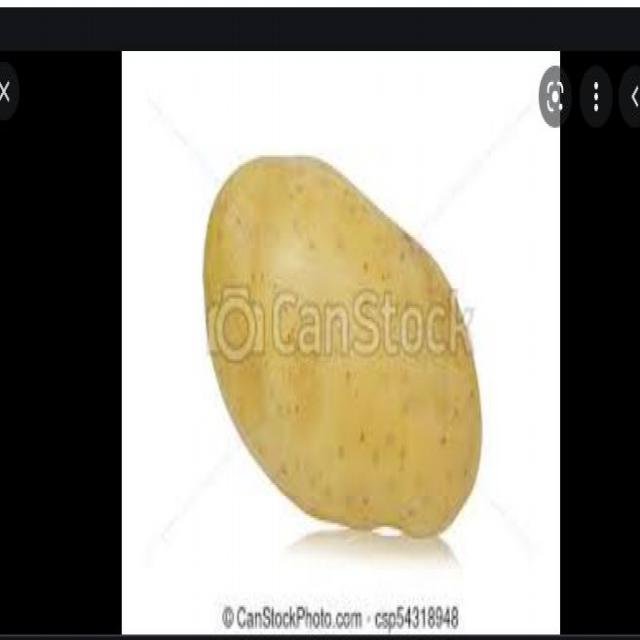potato: (203, 157, 481, 540)
